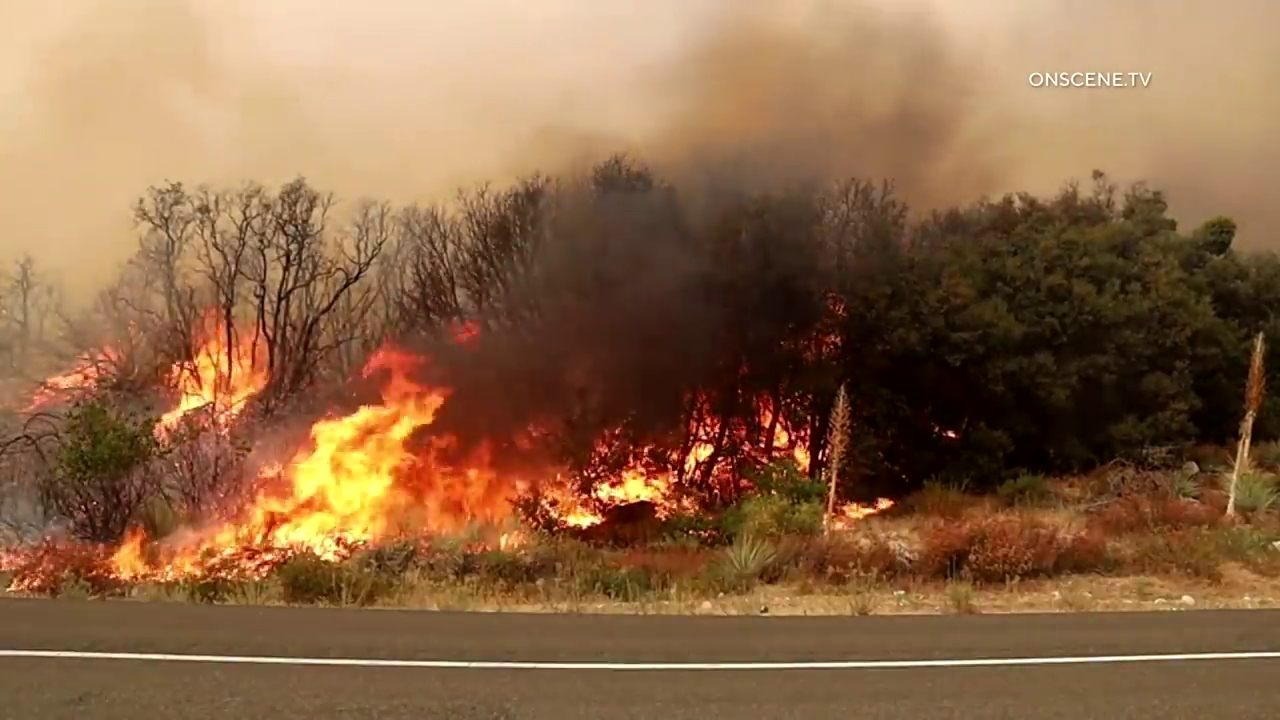forest_fire: (110, 347, 715, 578), (156, 323, 268, 438), (764, 412, 807, 469), (834, 499, 892, 525)
